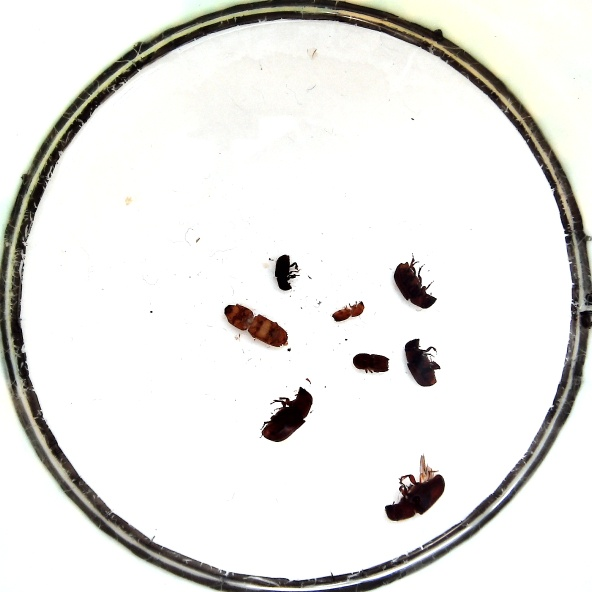acuminatus: (331, 300, 365, 322)
armandi: (273, 253, 296, 291)
boerner: (222, 301, 289, 347)
leconte: (383, 467, 445, 522), (259, 386, 314, 444), (392, 261, 437, 310), (403, 337, 440, 387)
linnaeus: (350, 352, 390, 374)
